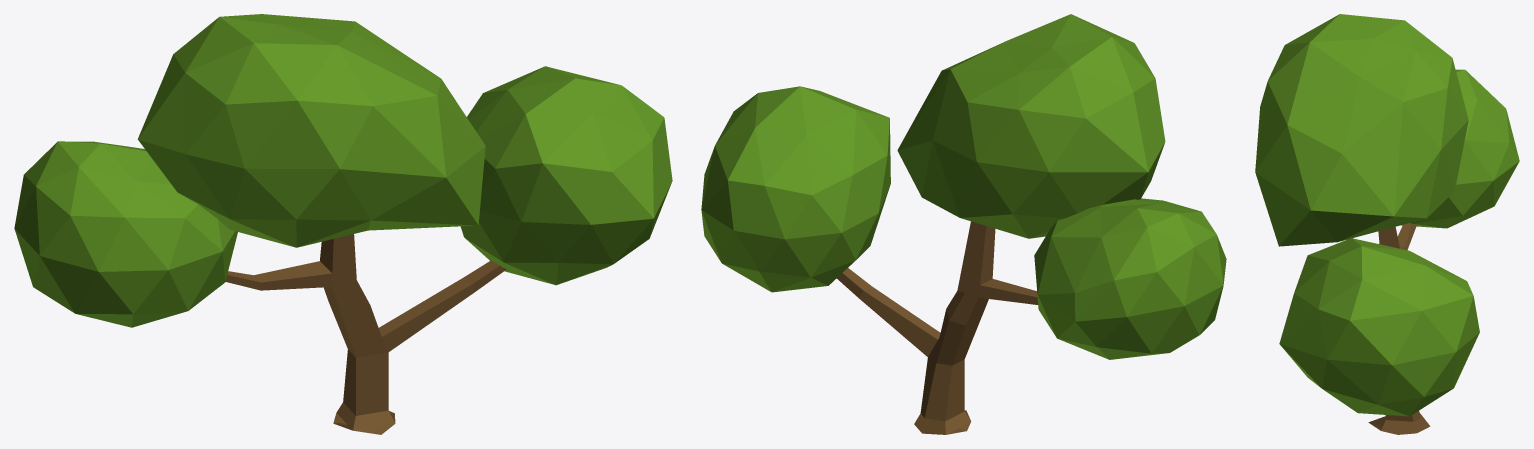
Rendered from tree01.fbx.
The picture shows the model from 3 angles, left to right: view 1: azimuth 30°, elevation 25°; view 2: azimuth 150°, elevation 25°; view 3: azimuth 270°, elevation 25°; orthographic projection. The views are drawn at different scales.
Parts seen in each view (by area): view 1: Plane.002; view 2: Plane.002; view 3: Plane.002.
Part boxes in pixels (x1=…): Plane.002: x1=14, y1=14, x2=672, y2=434; Plane.002: x1=701, y1=14, x2=1226, y2=434; Plane.002: x1=1255, y1=14, x2=1519, y2=434.
Size of the model in its own units: 6.6 by 4.69 by 3.19.
